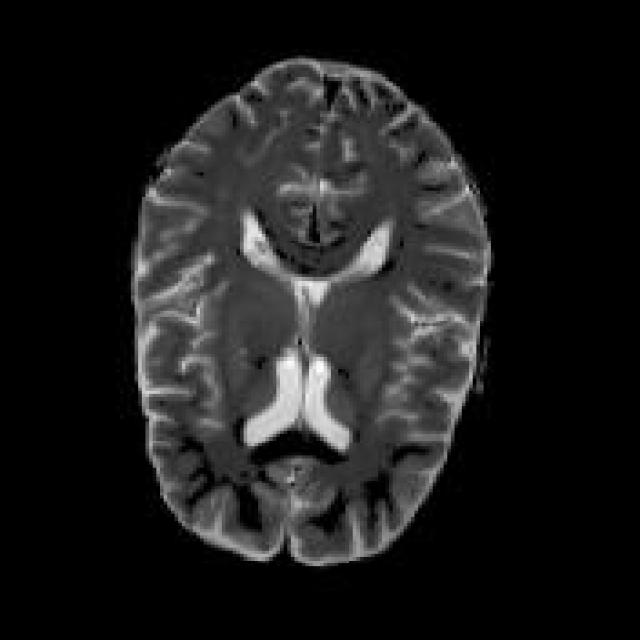parkinson: (127, 52, 495, 566)
